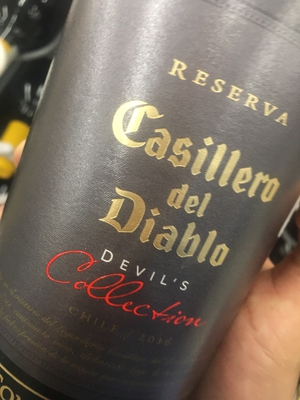casillero del diablo devils collection rojo: (22, 3, 288, 400)
